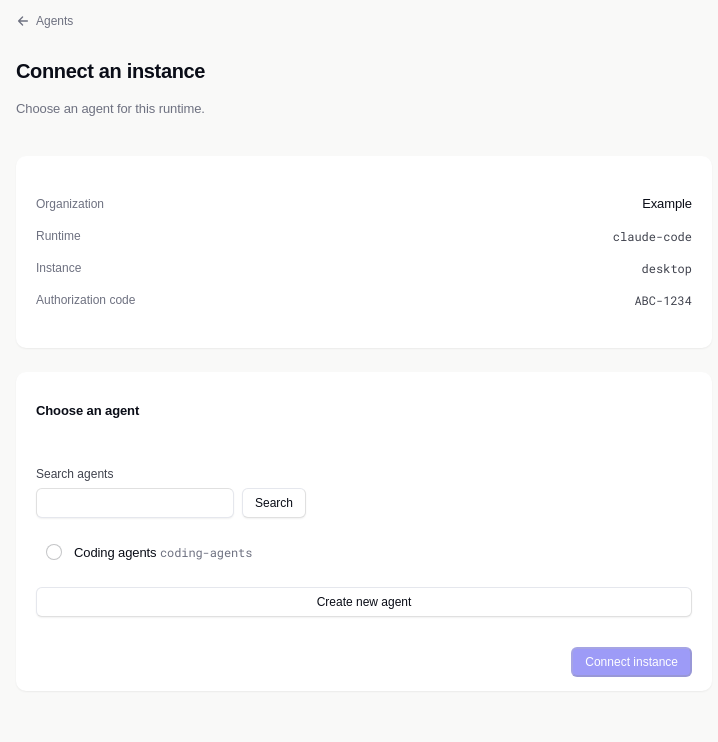
Test: CLI enrollment authorization › requires an explicit selection and confirmation
The width and height of the screenshot is (718, 742).
Expected: the button "Connect instance" is disabled, 571,647 -> 692,677
Click the radio button named "Coding agents coding-agents" at (54, 552), box 46,544 -> 62,560
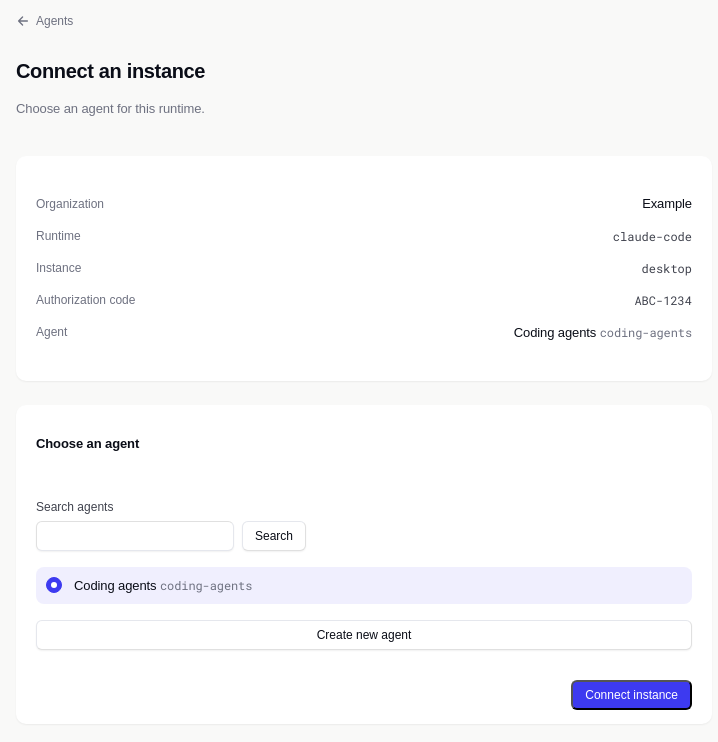
Click the button "Connect instance" at (632, 695), box 571,680 -> 692,710
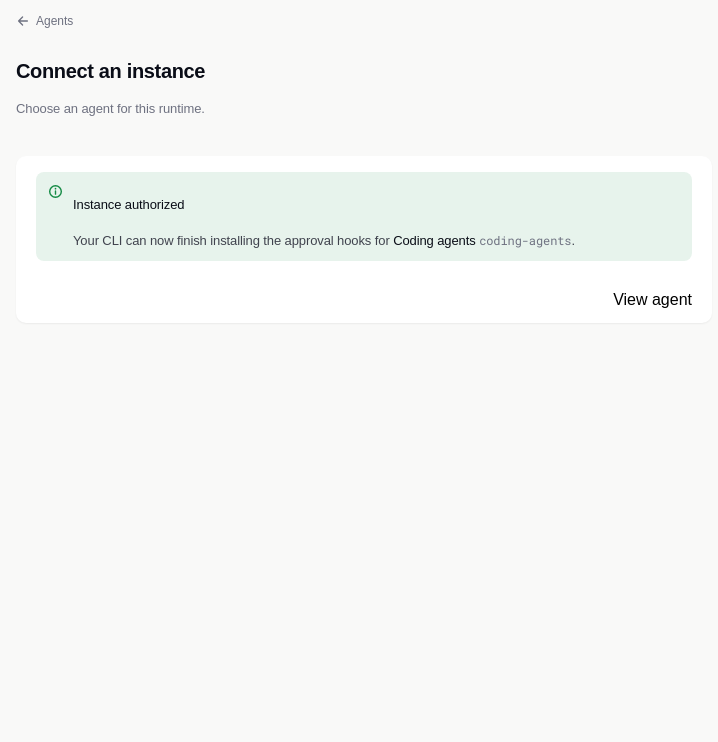
Now the text "Instance authorized" is shown, box 73,197 -> 184,212
